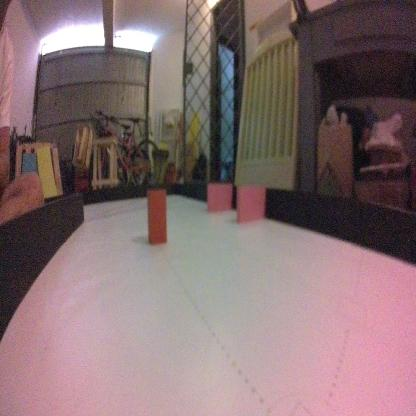magenta: (235, 184, 265, 223), (207, 184, 233, 214)
red: (146, 188, 170, 248)
